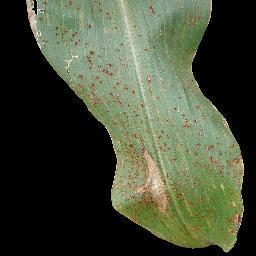Corn_Common_Rust: (66, 110, 255, 256), (21, 0, 217, 110)
